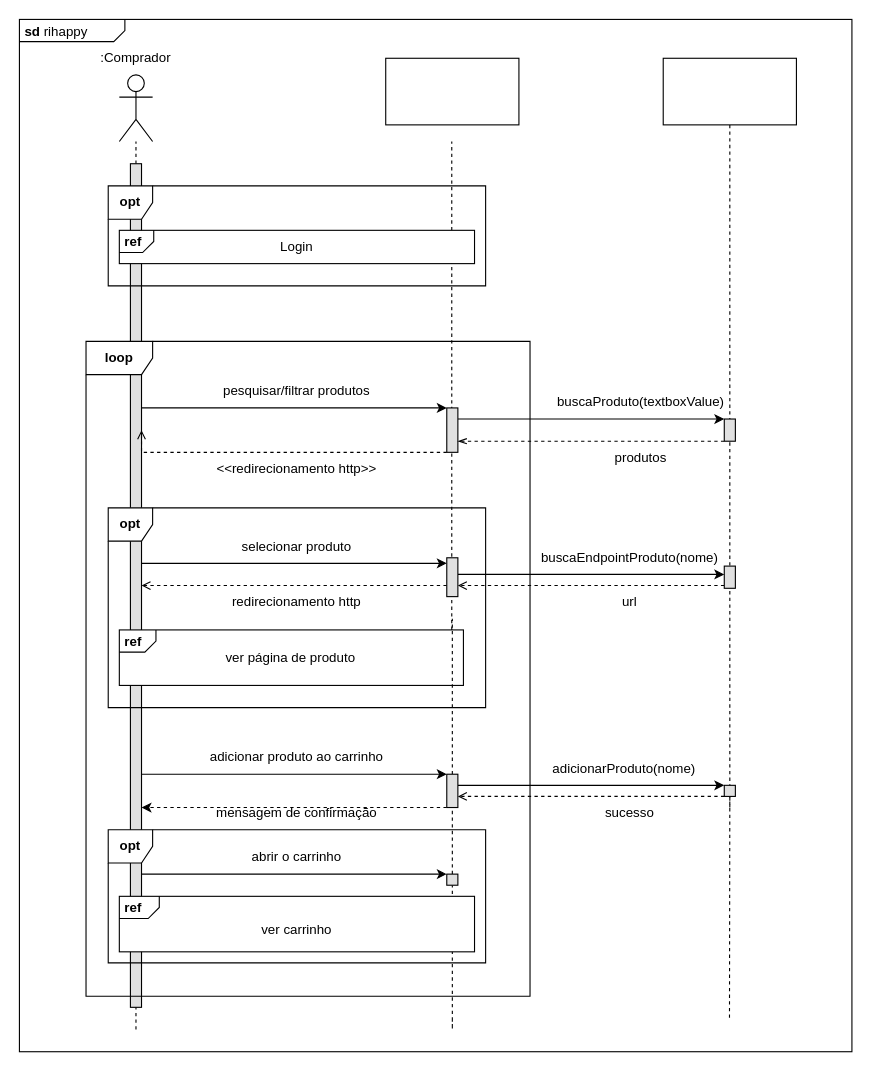
Image size: 871x1071. Some labels were removed from this diagram. The centre of each missing label's shape, as x and y in pixels:
":Banco de dados" goes at pixel 729 91.
":Website Ri Happy" goes at pixel 452 91.
